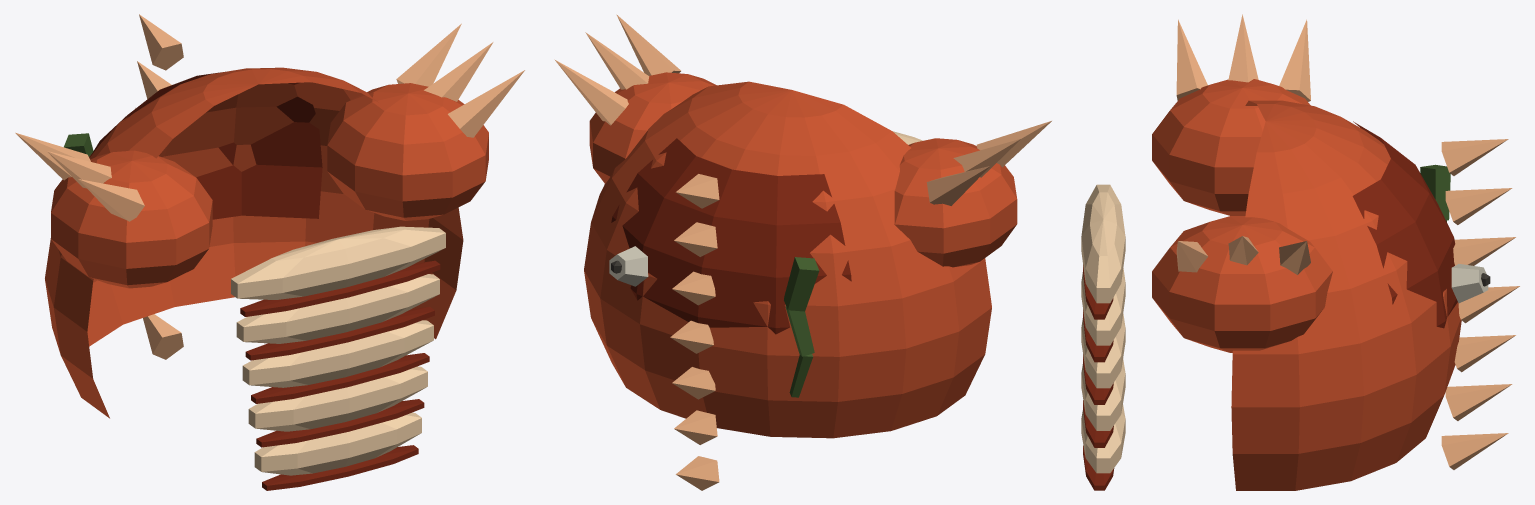
The model's file is clawfolk_shell.glb.
3 views of the same model, side by side, from view 1: azimuth 30°, elevation 25°; view 2: azimuth 150°, elevation 25°; view 3: azimuth 270°, elevation 25° (orthographic). The views are drawn at different scales.
Visible parts, largest first — view 1: clawfolk_shell; view 2: clawfolk_shell; view 3: clawfolk_shell.
Part boxes in pixels (<box>): clawfolk_shell: <box>15,14,524,490</box>; clawfolk_shell: <box>554,14,1051,490</box>; clawfolk_shell: <box>1081,14,1519,490</box>.
Bounding box in the file's own units: 1.36 × 0.9968 × 1.14.
